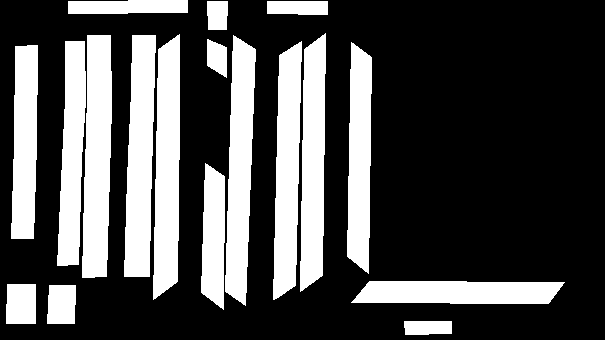parkingspot: (225, 35, 255, 305), (124, 35, 155, 276), (273, 41, 301, 299), (82, 35, 111, 277), (153, 34, 179, 299), (300, 33, 325, 291), (57, 41, 85, 265), (347, 42, 371, 273), (11, 45, 37, 238), (351, 281, 564, 303), (201, 163, 224, 309), (68, 0, 187, 13), (6, 284, 35, 323), (47, 285, 75, 323), (267, 1, 327, 14), (207, 39, 226, 77), (404, 321, 451, 334), (207, 1, 227, 29)
